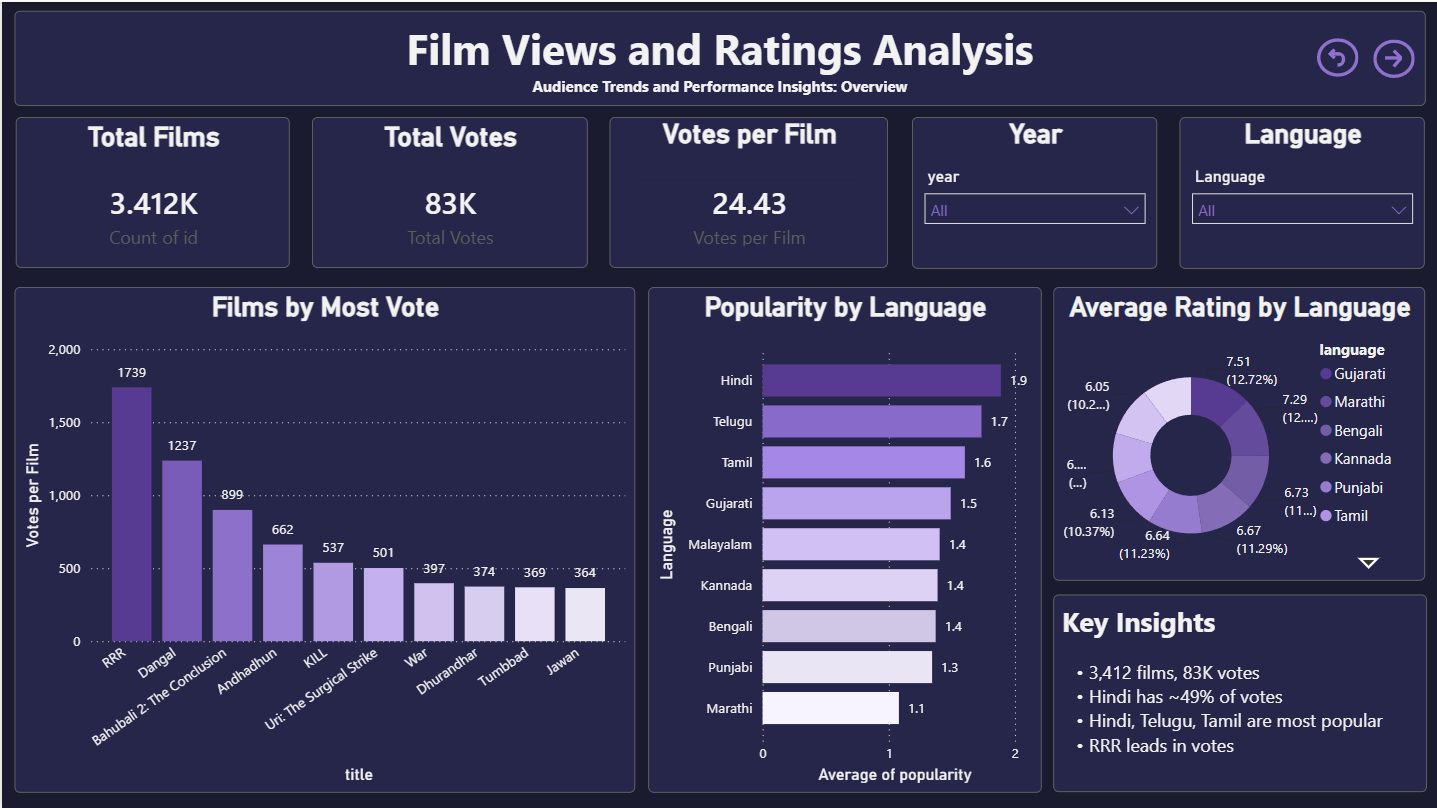

What the dashboard file says about the page in this screenshot:
{"tool":"powerbi","page":{"name":"Overview","canvas":[1280,720],"ordinal":0},"visuals":[{"type":"textbox","box":[11,8.2,1257,85.1],"z":0},{"type":"cardVisual","title":"Total Films","fields":{"Data":["Count(project film.id)"]},"box":[12.3,102.9,244.3,134.5],"z":1000},{"type":"cardVisual","title":"Total Votes","fields":{"Data":["project candratingbyreyear.Total Votes"]},"box":[275.8,102.9,245.6,134.5],"z":2000},{"type":"cardVisual","title":"Votes per Film","fields":{"Data":["project candratingbyreyear.Votes per Film"]},"box":[540.7,102.9,248.4,134.5],"z":3000},{"type":"clusteredColumnChart","title":" Films by Most Vote","fields":{"Y":["project candratingbyreyear.Votes per Film"],"Category":["project film.title"]},"box":[10.9,253.4,552.5,450],"z":4000},{"type":"barChart","title":"Popularity by Language","fields":{"Category":["project film.Language"],"Y":["Avg(project film.popularity)"]},"box":[575,253.8,350,450],"z":5000},{"type":"slicer","title":"Language","fields":{"Values":["project film.Language"]},"box":[1048.8,102.5,218.8,135],"z":6000},{"type":"actionButton","box":[1221.3,32.9,37,34.3],"z":7000},{"type":"slicer","title":"Year","fields":{"Values":["project film.year"]},"box":[810,102.5,218.8,135],"z":8000},{"type":"donutChart","title":"Average Rating by Language","fields":{"Category":["project highratedfilmcount.language"],"Y":["Avg(project film.imdb_rating)"]},"box":[936.2,253.8,331.2,261.2],"z":9000},{"type":"textbox","box":[936.2,527.5,332.5,176.2],"z":10000},{"type":"actionButton","box":[1171.2,32.5,37,34.3],"z":11000}]}

Visuals, with their boxes in screenshot pixels (x1, y1, x2, y2), scaled from the page's 1280x720 canvas onto the 1437x808 screenshot:
textbox: (12,9,1424,105)
"Total Films" cardVisual: (14,115,288,266)
"Total Votes" cardVisual: (310,115,585,266)
"Votes per Film" cardVisual: (607,115,886,266)
" Films by Most Vote" clusteredColumnChart: (12,284,633,789)
"Popularity by Language" barChart: (646,285,1038,790)
"Language" slicer: (1177,115,1423,267)
actionButton: (1371,37,1413,75)
"Year" slicer: (909,115,1155,267)
"Average Rating by Language" donutChart: (1051,285,1423,578)
textbox: (1051,592,1424,790)
actionButton: (1315,36,1356,75)
